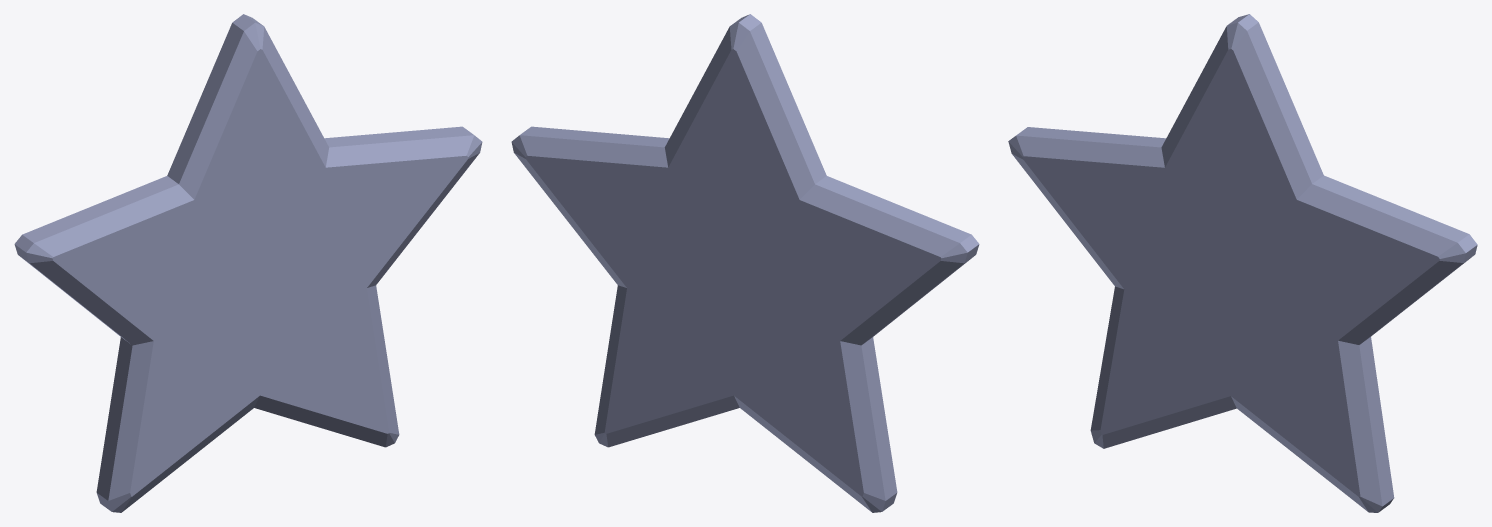
The model's file is Star_1.fbx.
3 renders of one model, left to right at view 1: azimuth 30°, elevation 25°; view 2: azimuth 150°, elevation 25°; view 3: azimuth 330°, elevation 25°, orthographic.
Parts seen in each view (by area): view 1: Star_1; view 2: Star_1; view 3: Star_1.
Part boxes in pixels (box(x1,y1,x2,y2)): Star_1: box(14, 14, 482, 512); Star_1: box(511, 14, 979, 512); Star_1: box(1008, 14, 1477, 512).
Size of the model in its own units: 0.2166 by 0.2076 by 0.0195.
